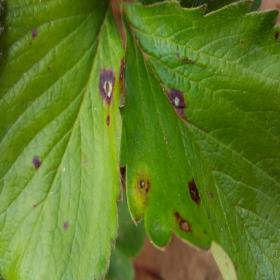Leaf Spot: (119, 0, 279, 279)
